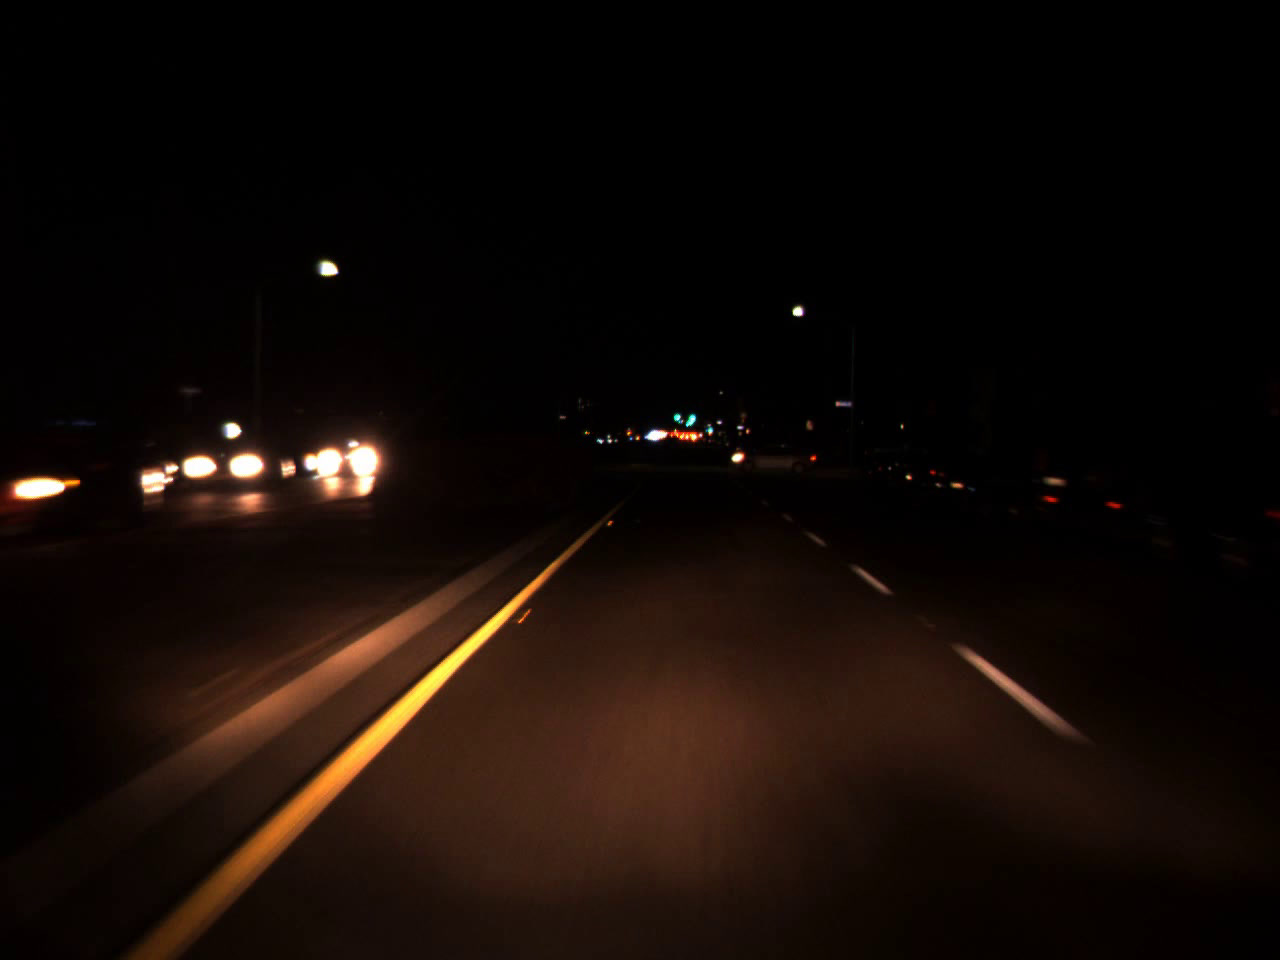go: (681, 398, 697, 431), (671, 407, 681, 422), (705, 419, 714, 435)
